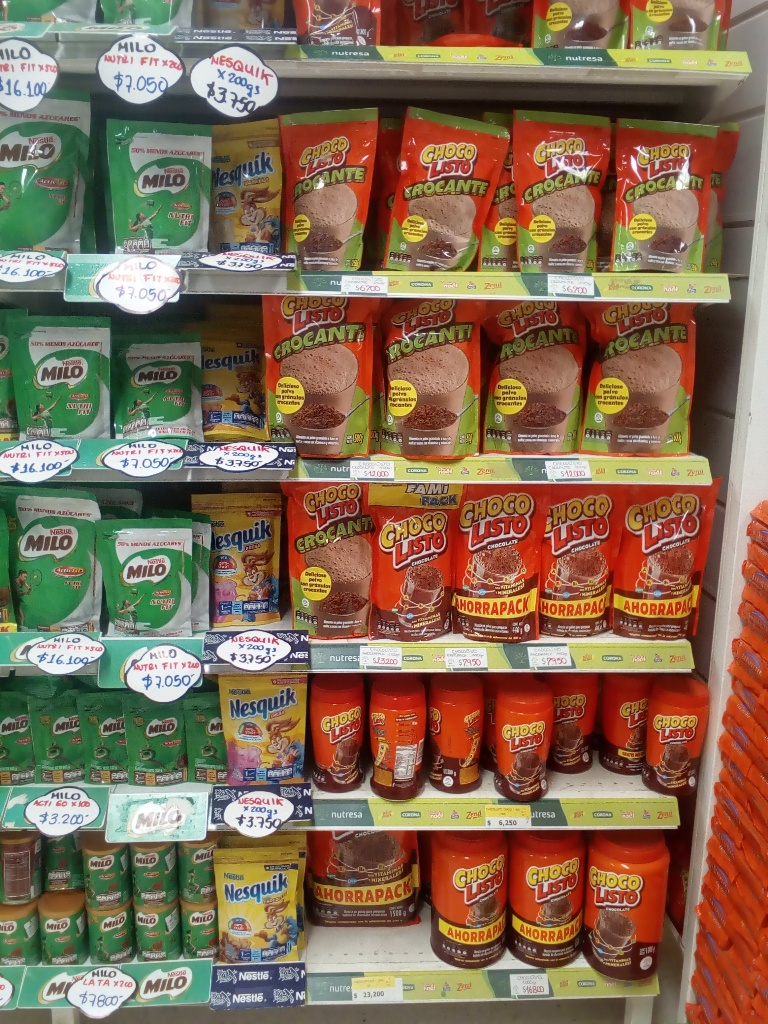COL0170102DYP25000: (275, 107, 373, 273)
COL0170102DYP50000: (260, 293, 373, 461)
COL0170103DYP1,500: (309, 824, 435, 938)
COL0170103DYP44000: (451, 484, 543, 645)
COL0170103TRR00100: (424, 829, 510, 967)
COL0170103TRR30000: (298, 672, 367, 793)
COL0170203DYP10000: (119, 694, 188, 786)
COL0170203LAT20000: (85, 906, 136, 965)
COL0170205DYP20000: (97, 114, 210, 256)
COL0170205DYP50000: (0, 94, 90, 246)
COL0170303DYP20000: (211, 844, 303, 959)
COL0170305DYP20000: (216, 671, 307, 786)
COL0170306DYP20000: (205, 118, 284, 258)
